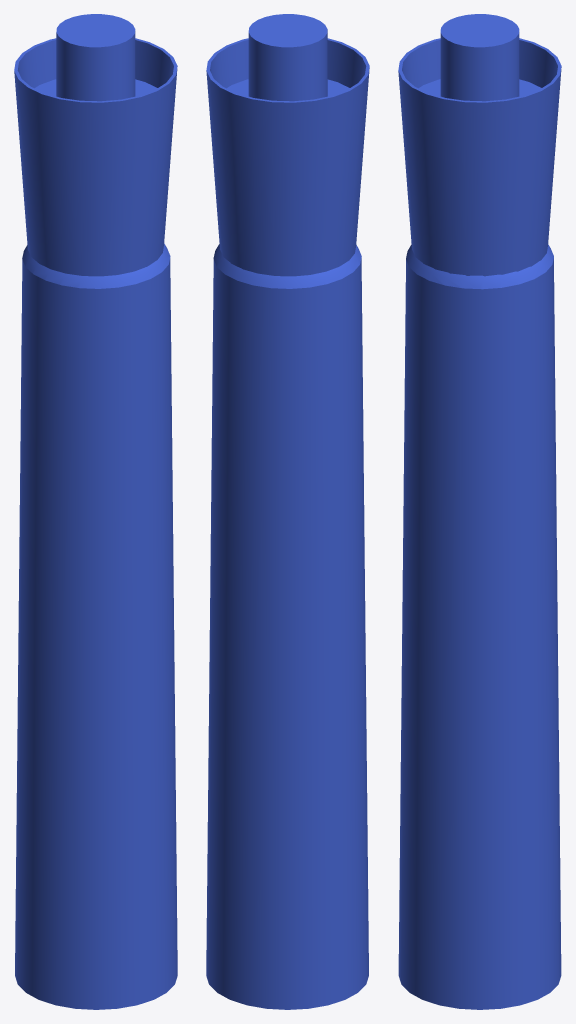
The model's file is marker_blue.fbx.
3 renders of one model, left to right at view 1: azimuth 30°, elevation 25°; view 2: azimuth 150°, elevation 25°; view 3: azimuth 270°, elevation 25°, orthographic.
Visible parts, largest first — view 1: blue_marker, blue_cap; view 2: blue_marker, blue_cap; view 3: blue_marker, blue_cap.
Boxes of the visible parts, x1,y1,x2,y2 form: blue_marker: (15, 243, 177, 1009); blue_cap: (14, 14, 177, 276); blue_marker: (206, 244, 368, 1009); blue_cap: (206, 14, 369, 276); blue_marker: (398, 244, 561, 1009); blue_cap: (398, 14, 561, 276).
Bounding box in the file's own units: 1.86 × 11.85 × 1.86.
